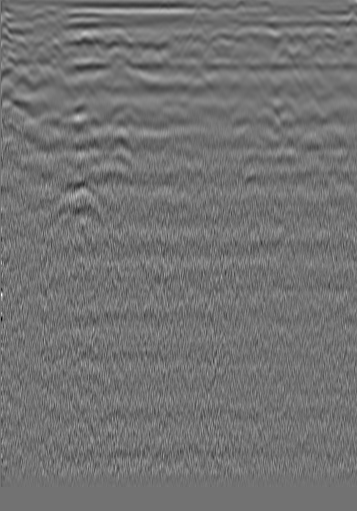가스: (238, 150, 268, 185)
상수: (0, 21, 20, 41)
우수: (125, 24, 145, 44)
